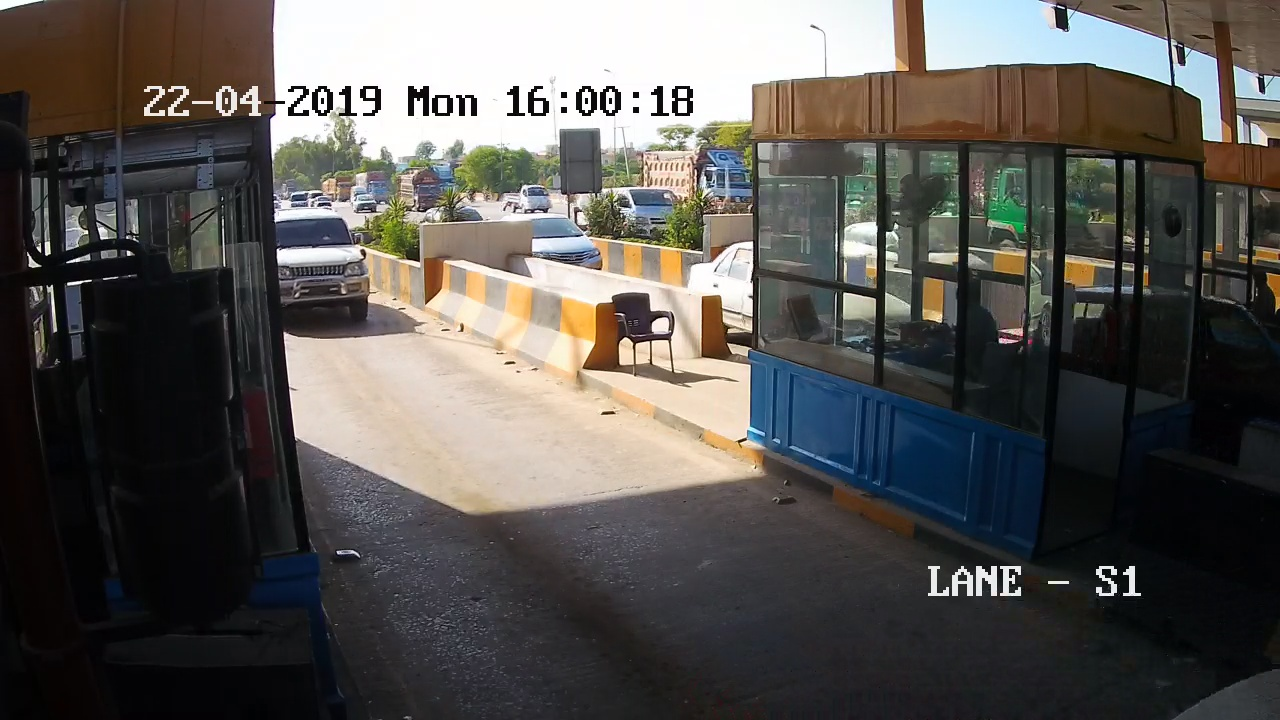car: (273, 202, 375, 348)
